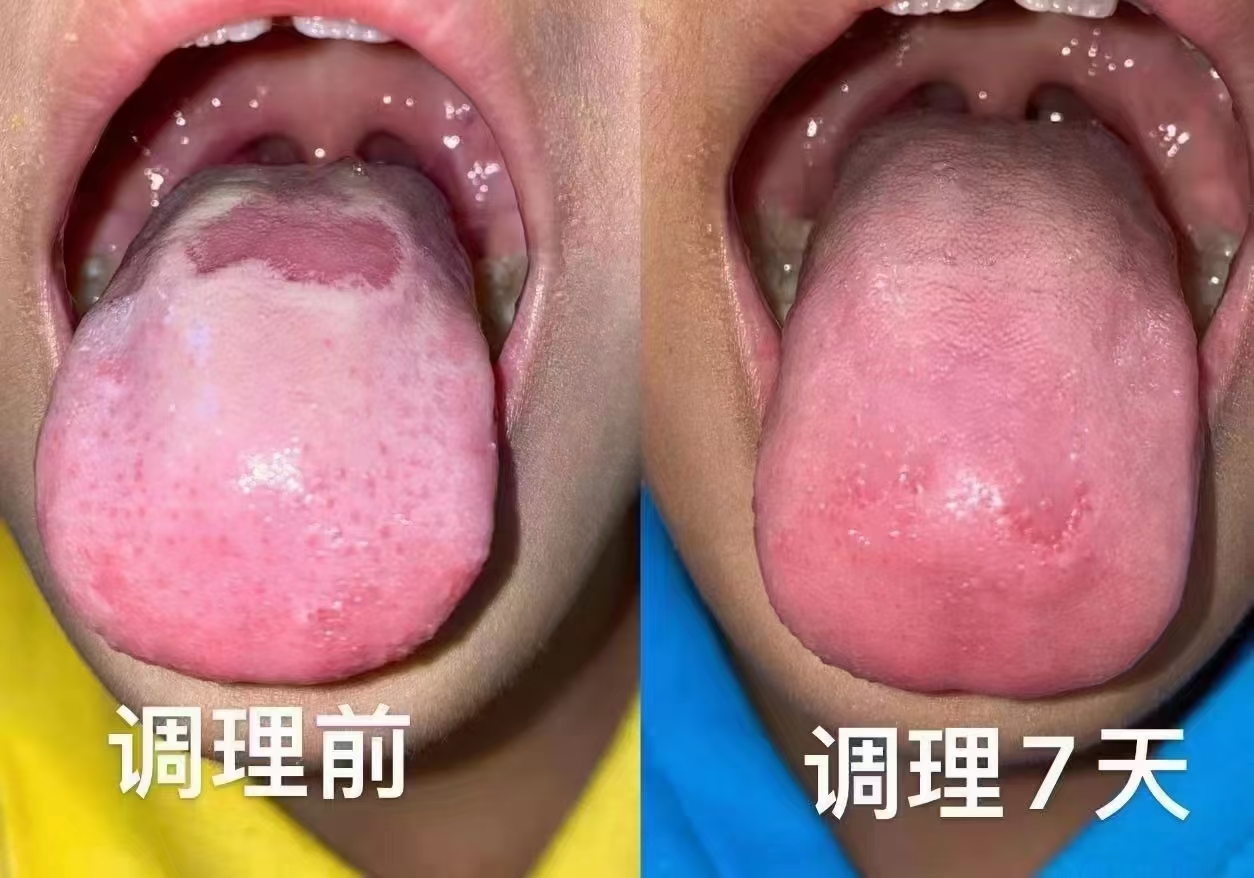baitaishe: (755, 110, 1203, 700), (35, 161, 499, 686)
botaishe: (172, 177, 417, 312)
hongdianshe: (372, 437, 389, 457), (129, 466, 143, 482)
hongshe: (755, 110, 1203, 700), (35, 161, 499, 686)
